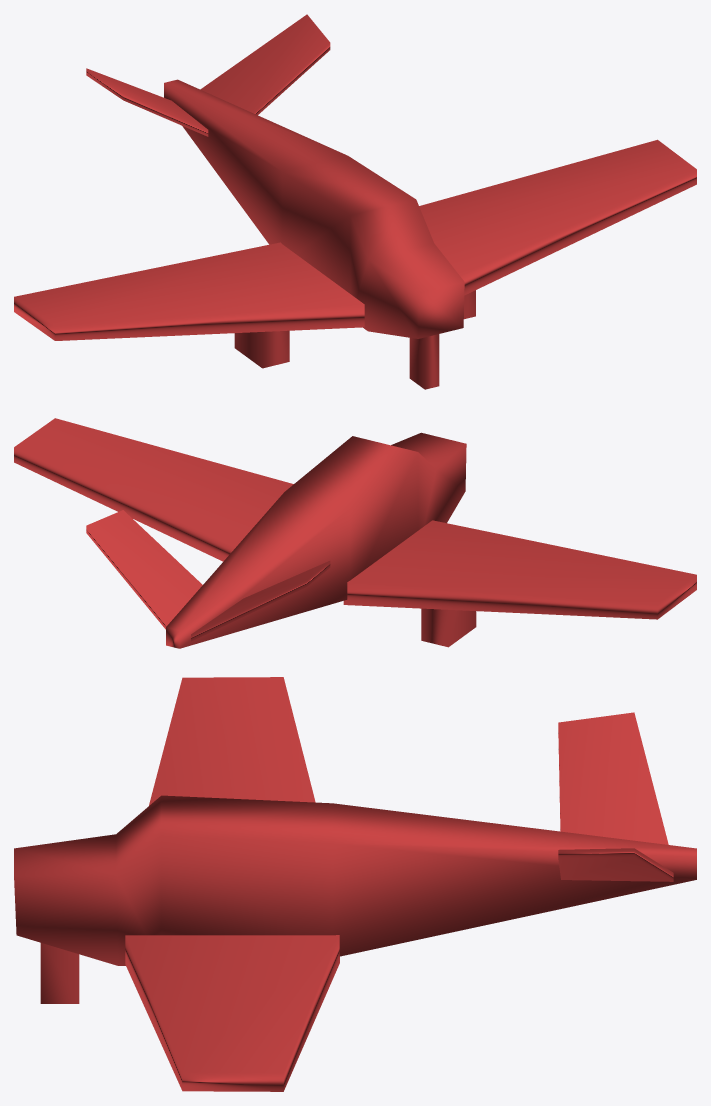
The model's file is sportflugzeug_beech_colmesh.fbx.
3 renders of one model, top to bottom at view 1: azimuth 30°, elevation 25°; view 2: azimuth 150°, elevation 25°; view 3: azimuth 270°, elevation 25°, orthographic. The views are drawn at different scales.
Visible parts, largest first — view 1: body_main; view 2: body_main; view 3: body_main.
Part boxes in pixels (x1=…): body_main: x1=14, y1=14, x2=696, y2=389; body_main: x1=14, y1=418, x2=696, y2=648; body_main: x1=14, y1=677, x2=696, y2=1091.
Bounding box in the file's own units: 921 × 239 × 672.
